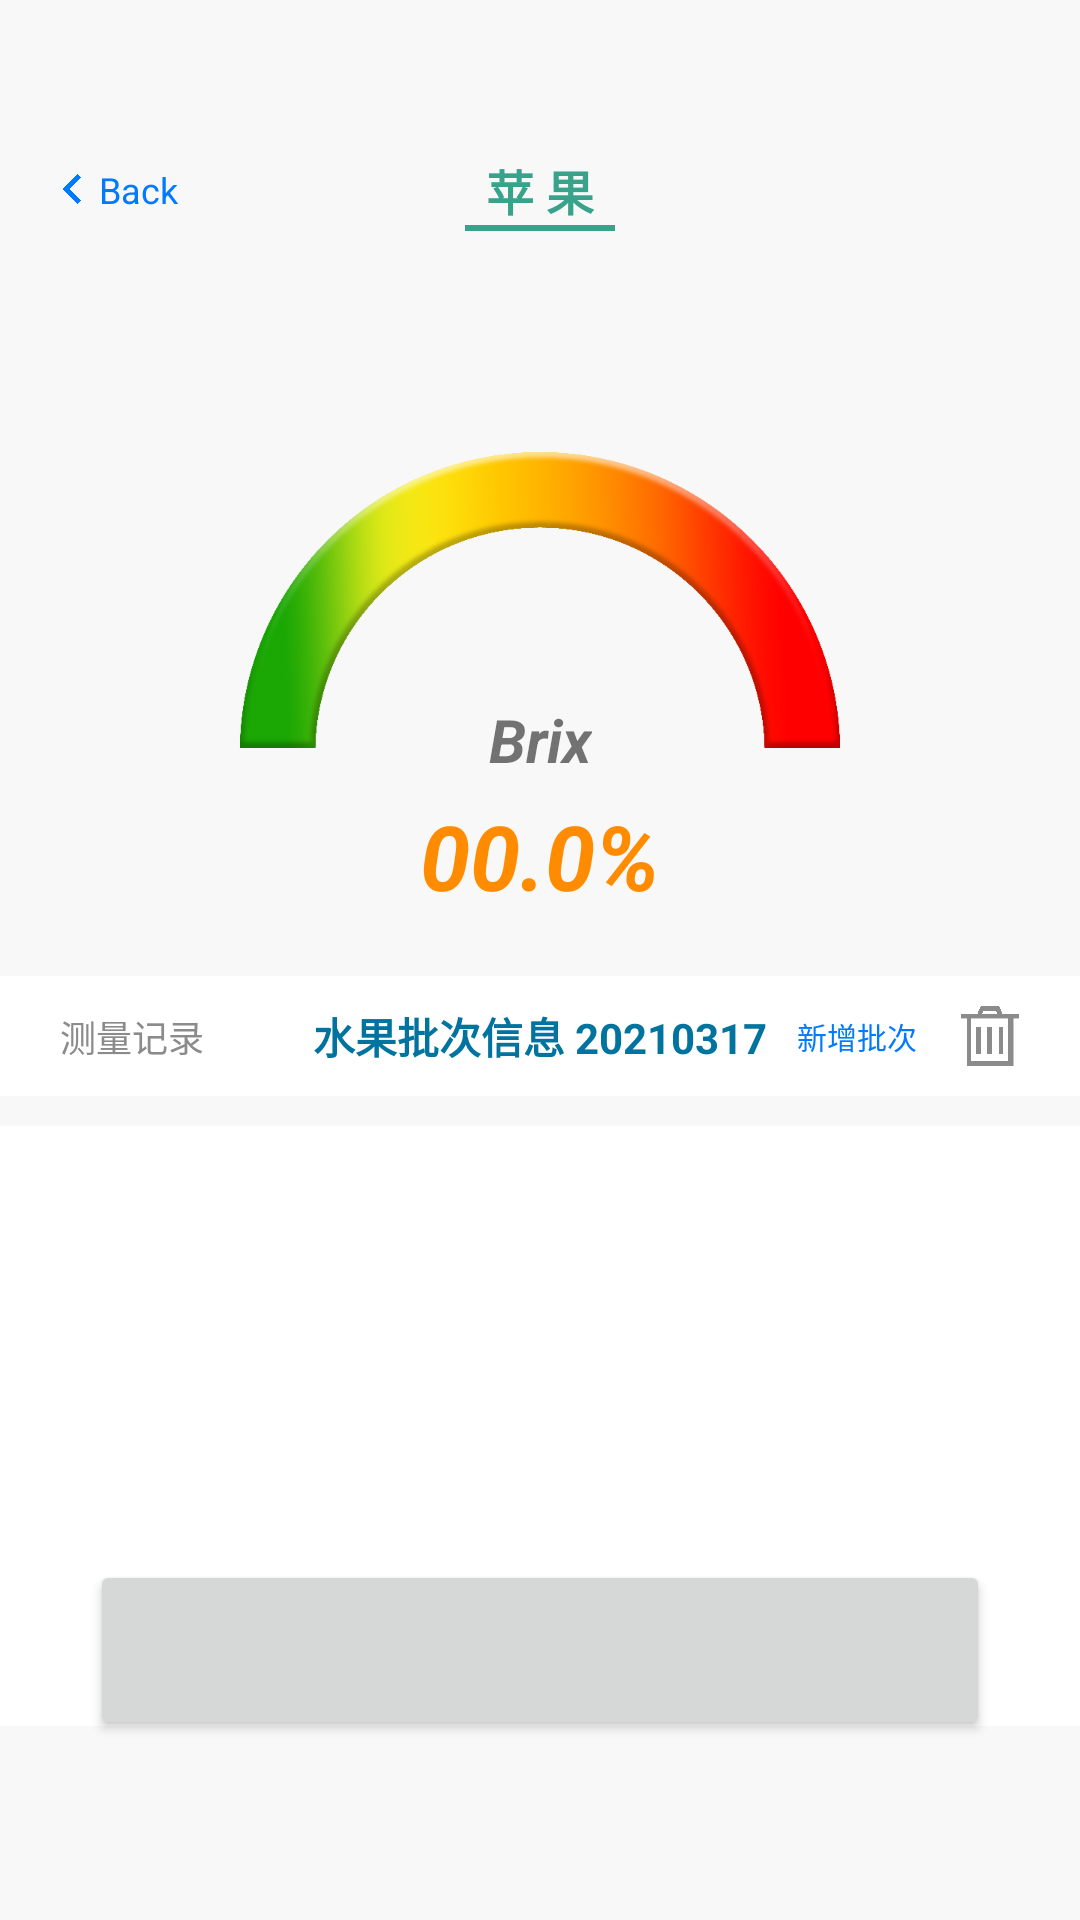

Where to tap for icons on this 1080×1920 app screen, as point (x, y):
delete: point (990, 1036)
